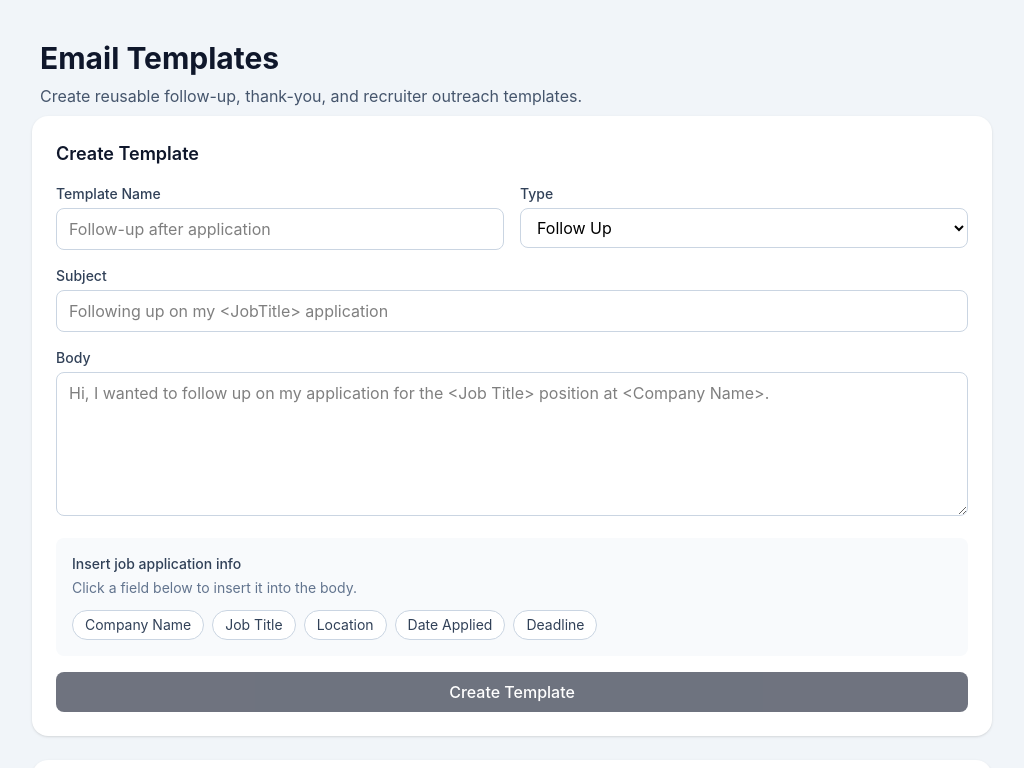
EmailTemplatesPage › inserts placeholder into the focused subject field
Click the field labelled "Subject".
click(512, 311)  # box [56, 290, 968, 332]
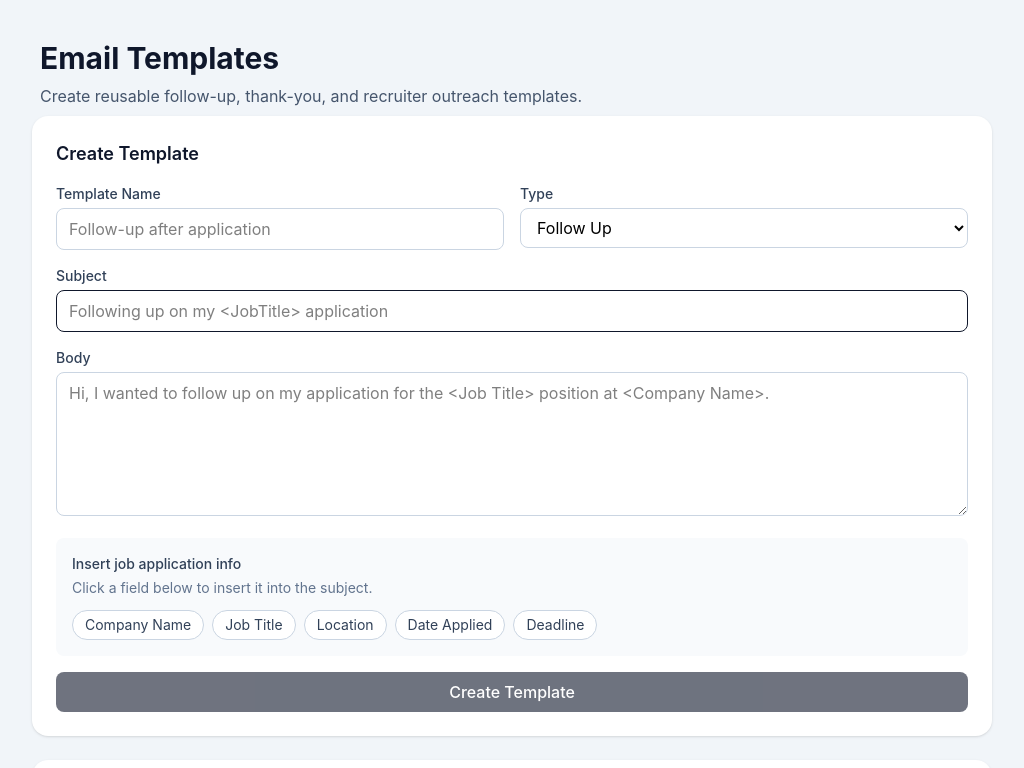
Click the button "Job Title".
click(254, 625)  # box [212, 610, 296, 640]
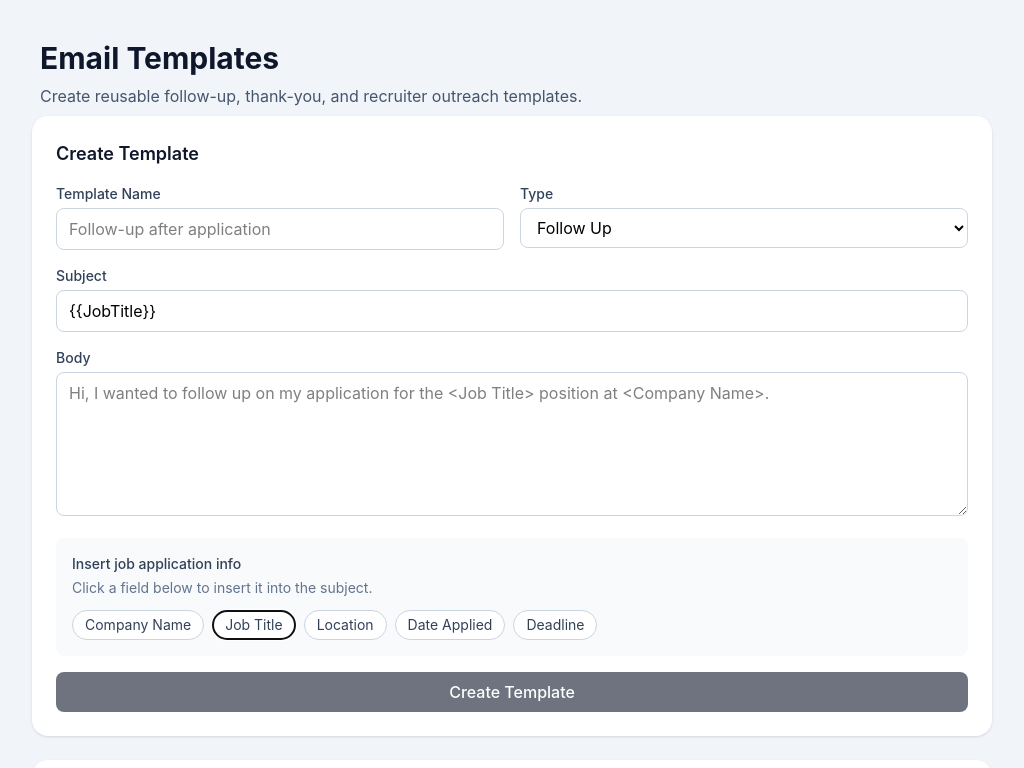
Check: the field labelled "Subject" holds "{{JobTitle}}", box [56, 290, 968, 332]
